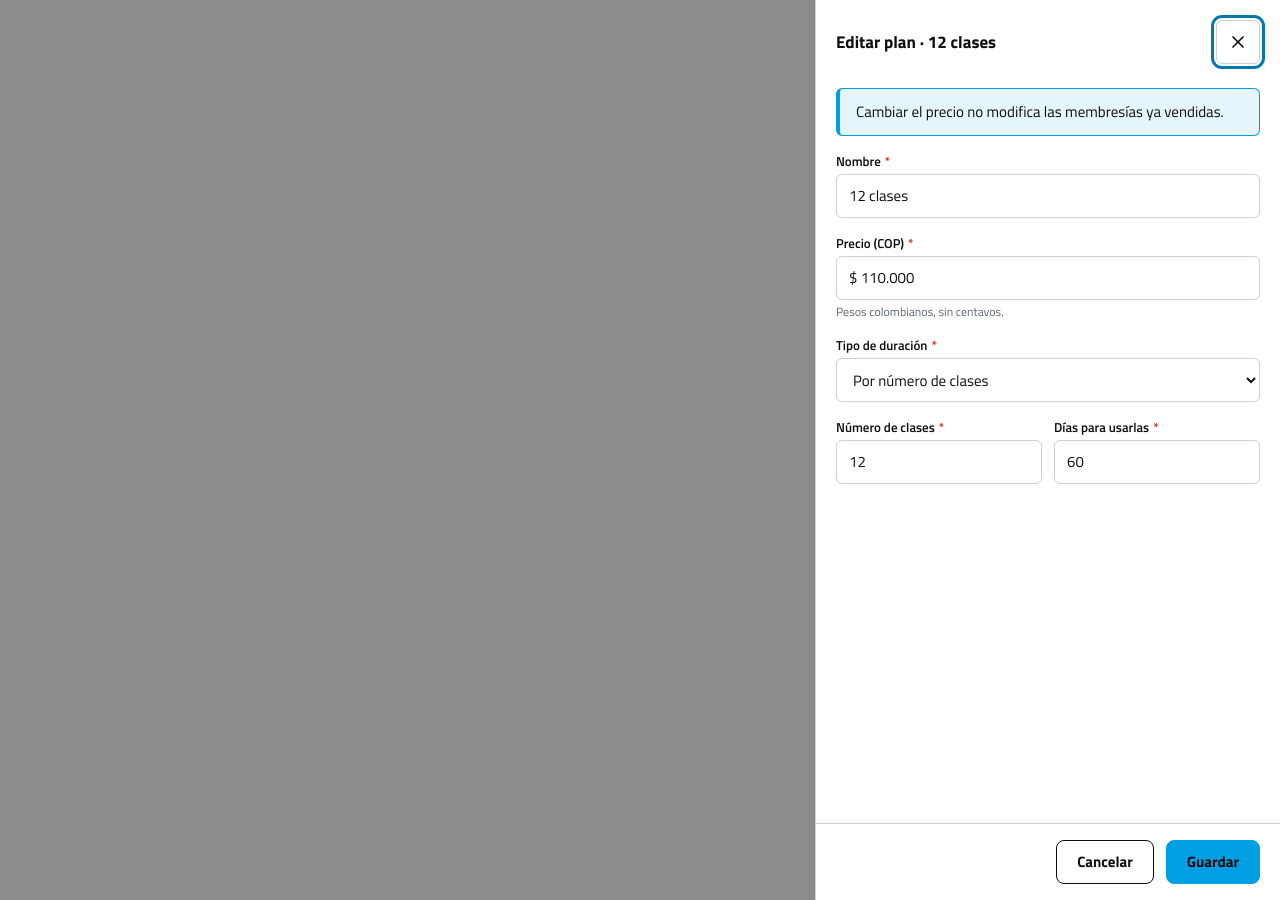
Scenario: PlanForm · errores del api al editar › el 409 de nombre va bajo 'Nombre' con el enlace al plan existente
This screenshot has width=1280, height=900.
Replace the text in the field labelled "Nombre*" with "Mensual": [1048, 196] box [836,174,1260,218]
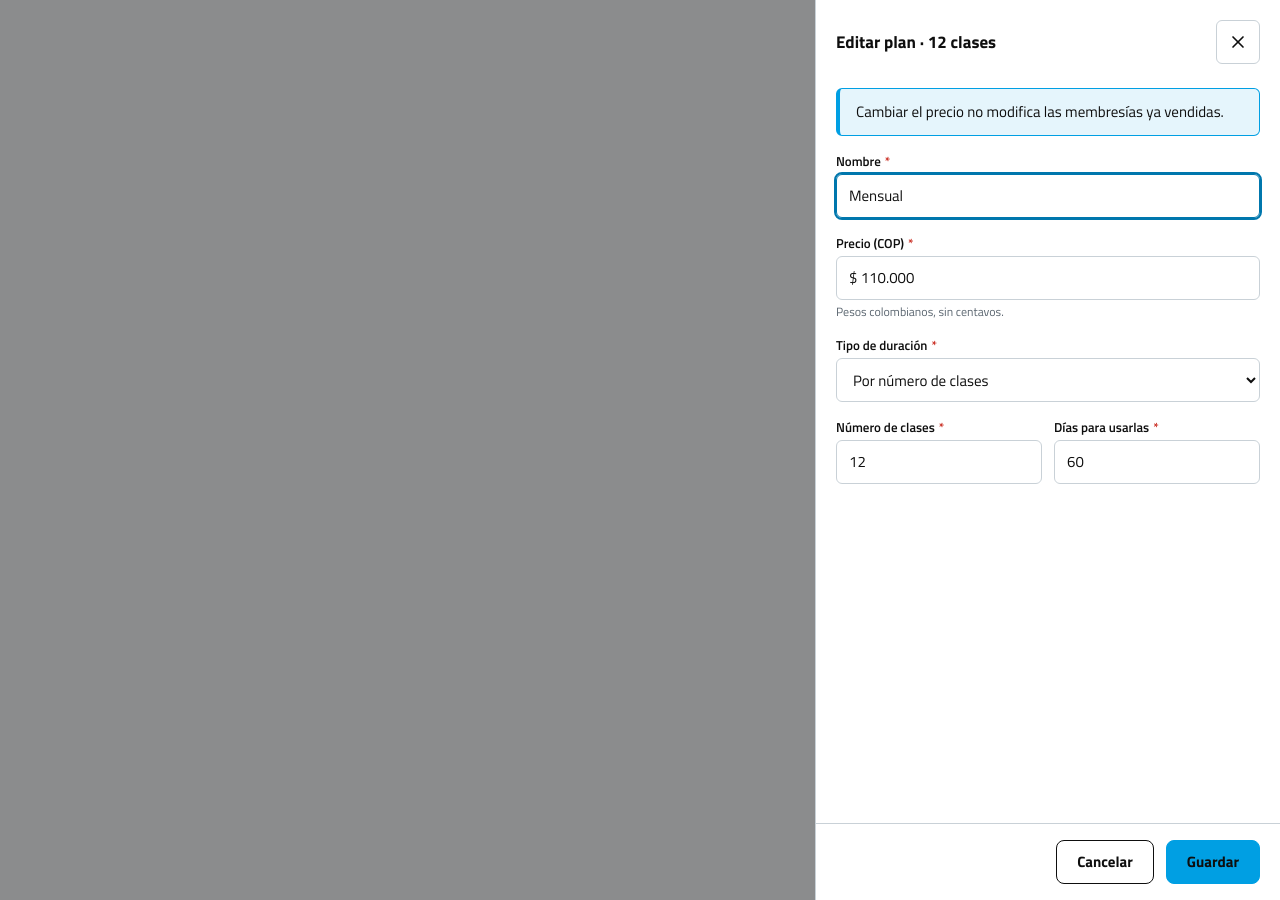
Click the button "Guardar": [1213, 862] box [1166,840,1260,884]
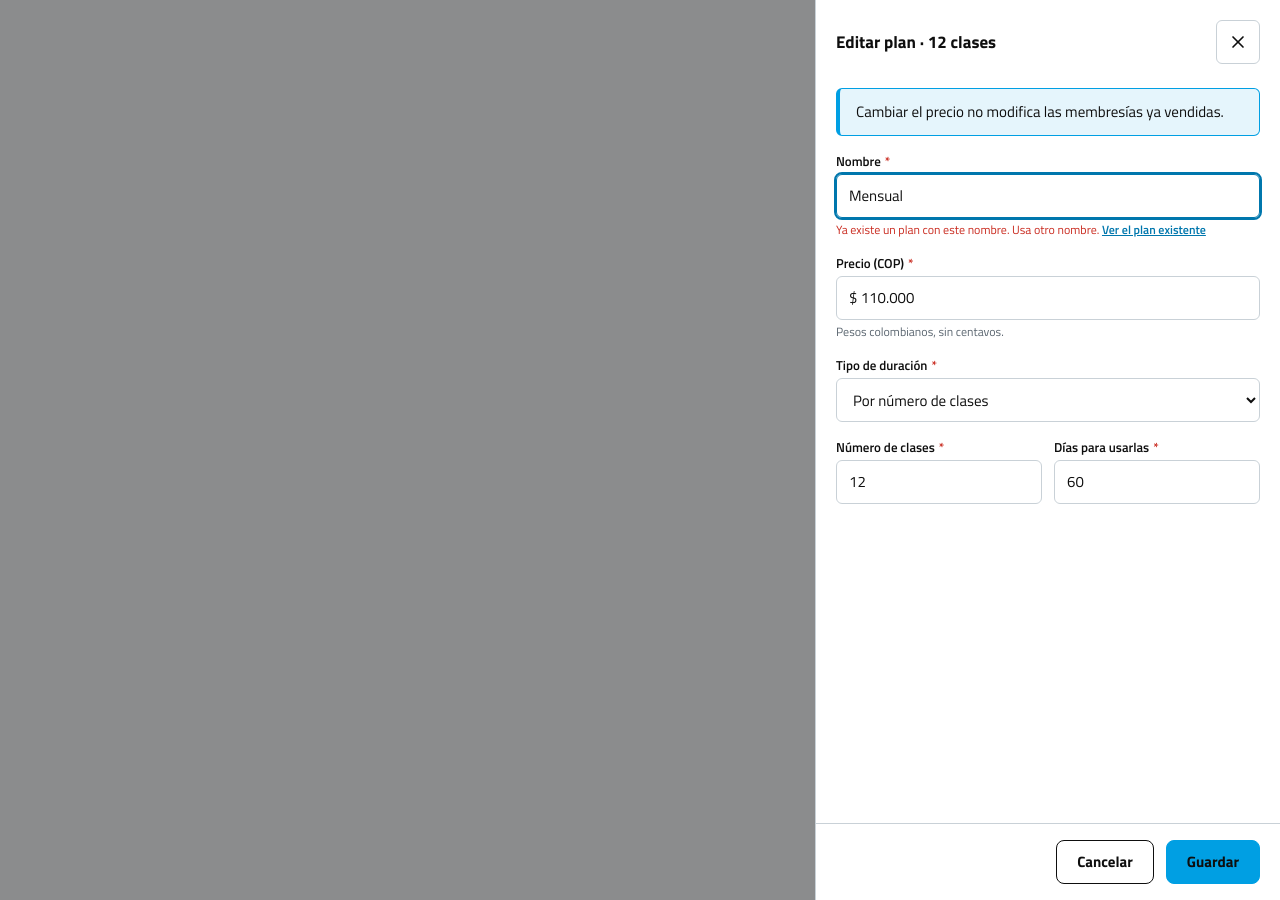
expect the text "Ya existe un plan con este nombre. Usa otro nombre." is shown: met, box [836,220,1099,239]
